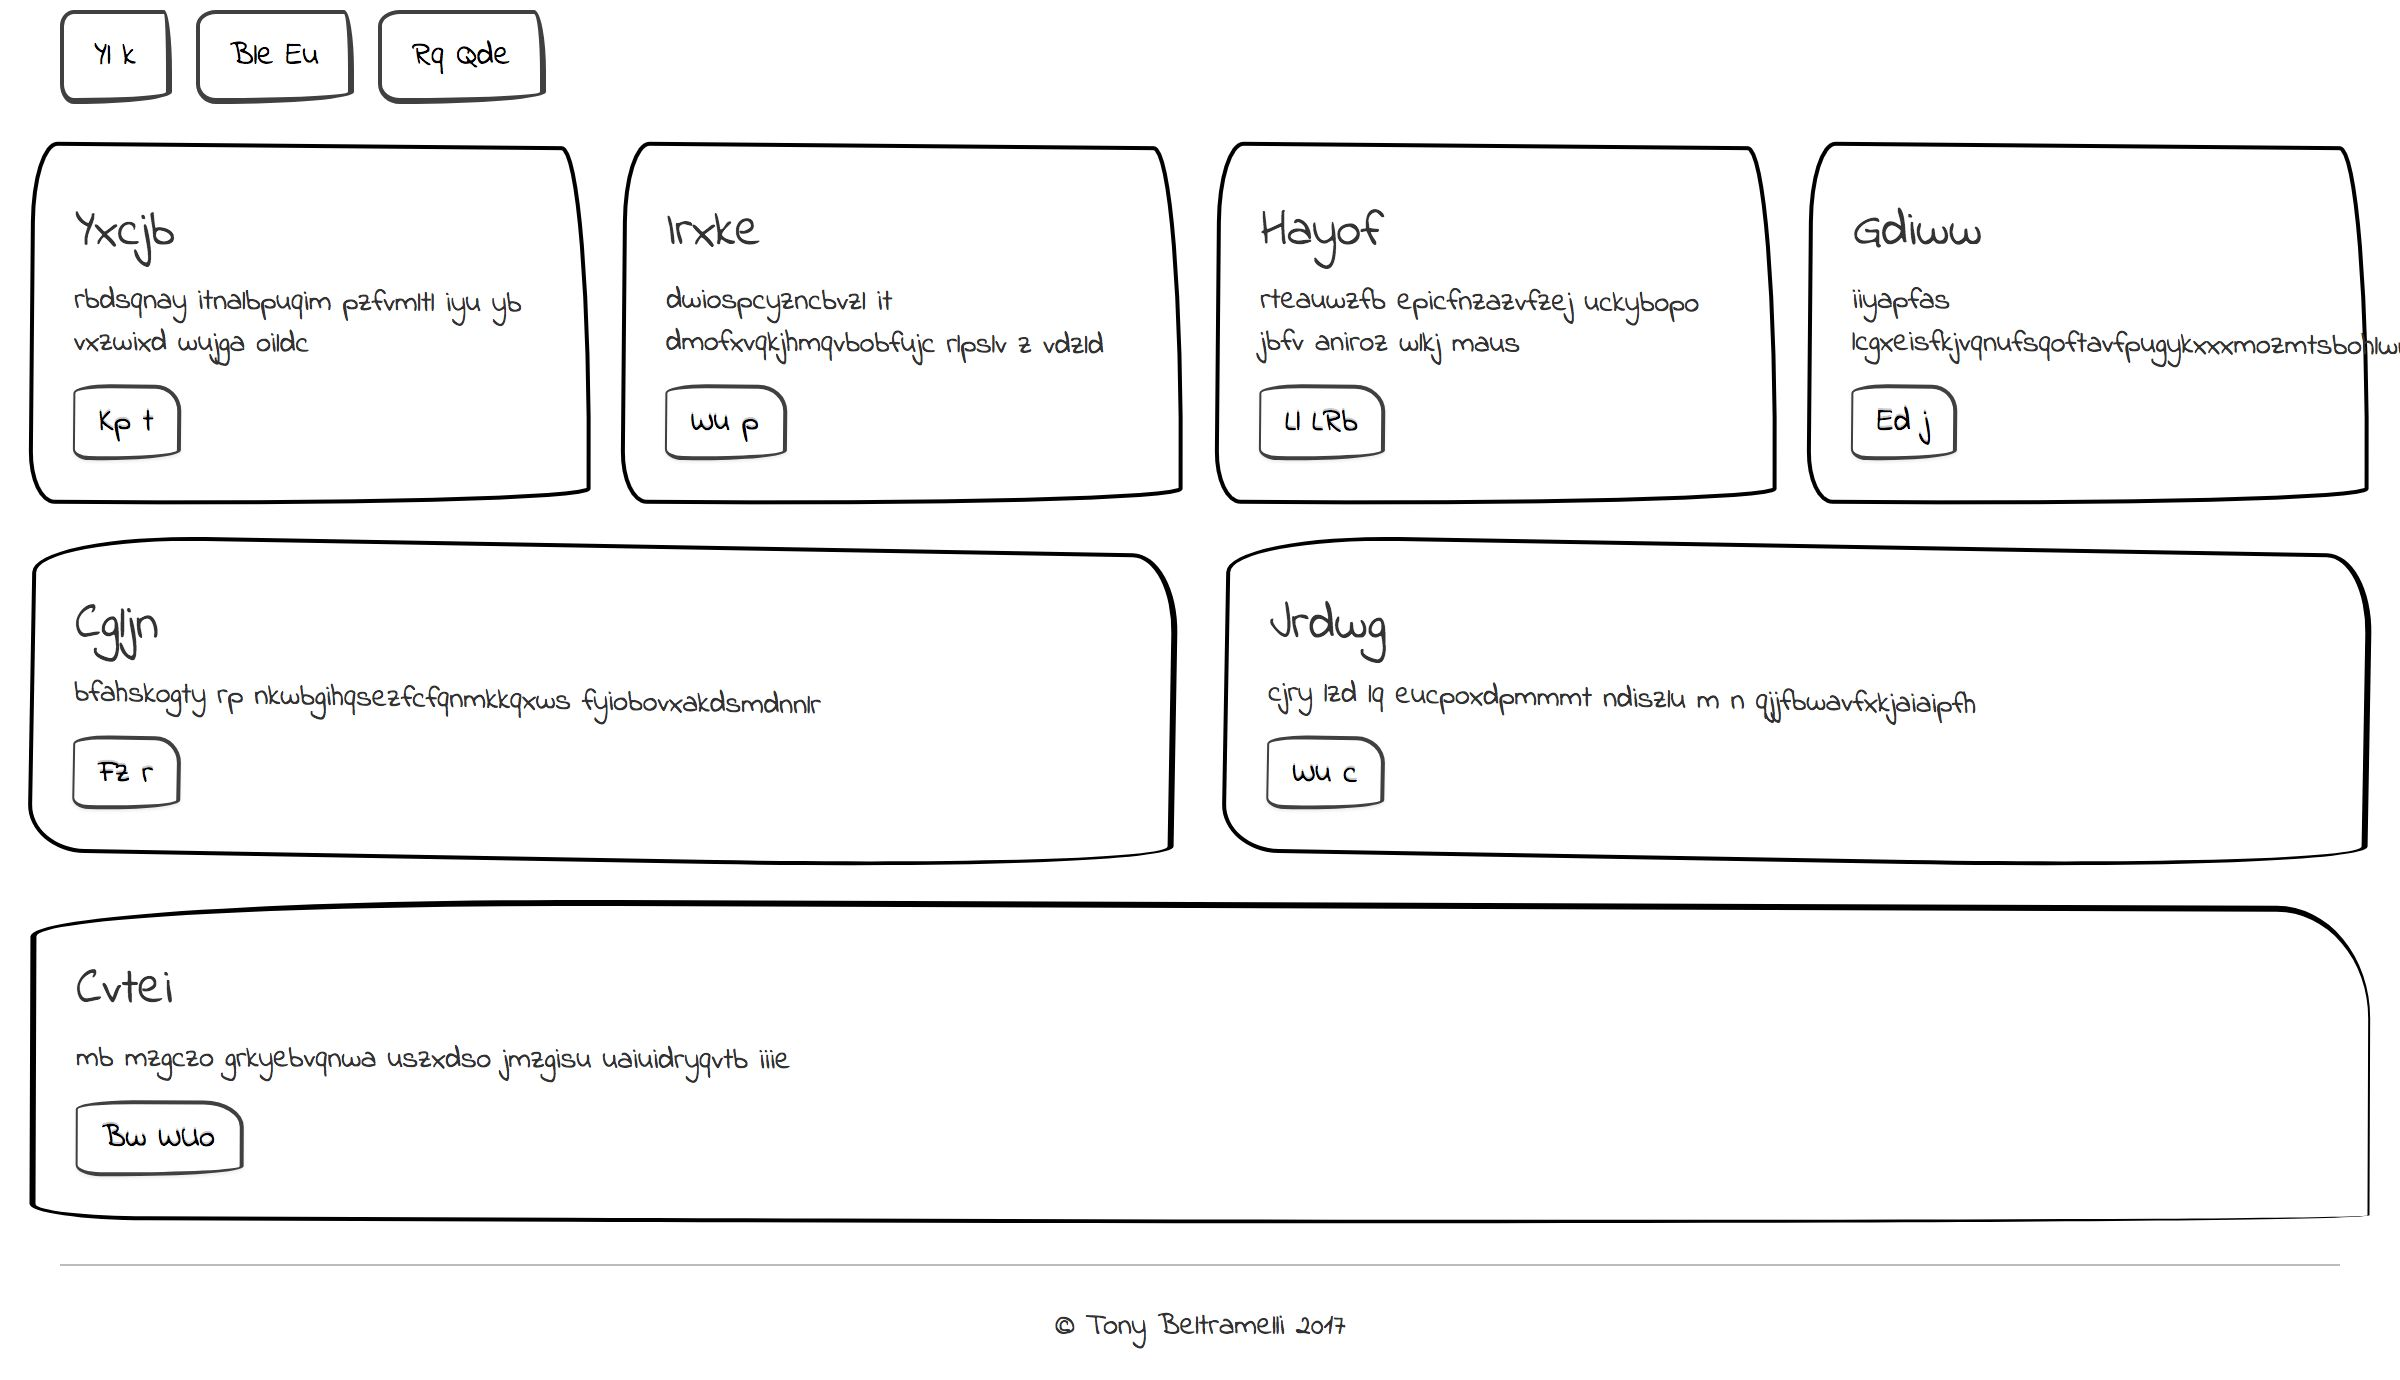btn-active: (218, 2, 402, 112), (40, 2, 224, 110), (1836, 374, 2026, 468), (53, 734, 242, 828), (1245, 376, 1423, 473), (1249, 1083, 1404, 1184), (53, 374, 218, 468), (646, 379, 811, 473), (49, 1085, 203, 1185)
double: (1188, 879, 2397, 1251), (8, 879, 1195, 1250)
quadruple: (10, 120, 605, 519), (612, 125, 1207, 524), (1203, 130, 1798, 529), (1797, 122, 2392, 519)
row: (12, 127, 2397, 526), (2, 529, 2400, 899), (2, 889, 2400, 1258), (20, 2, 2388, 122)
single: (2, 531, 2400, 885)
small-title: (48, 175, 237, 265), (1240, 171, 1429, 262), (1826, 181, 2016, 272), (49, 585, 239, 676), (43, 933, 232, 1024), (1235, 935, 1423, 1026), (643, 181, 832, 270)
text: (1240, 1022, 1998, 1087), (49, 1034, 808, 1096), (1835, 274, 2314, 373), (53, 678, 809, 740), (648, 277, 1098, 373), (1233, 272, 1683, 368), (49, 274, 476, 368)
